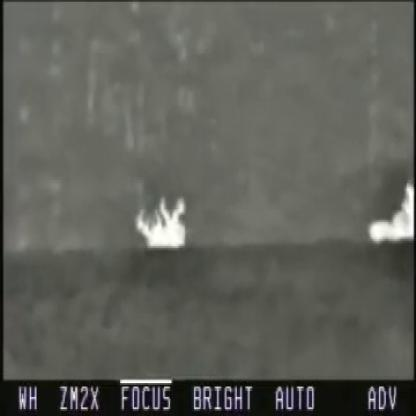rehkitze: (363, 180, 415, 250), (136, 197, 189, 255)
